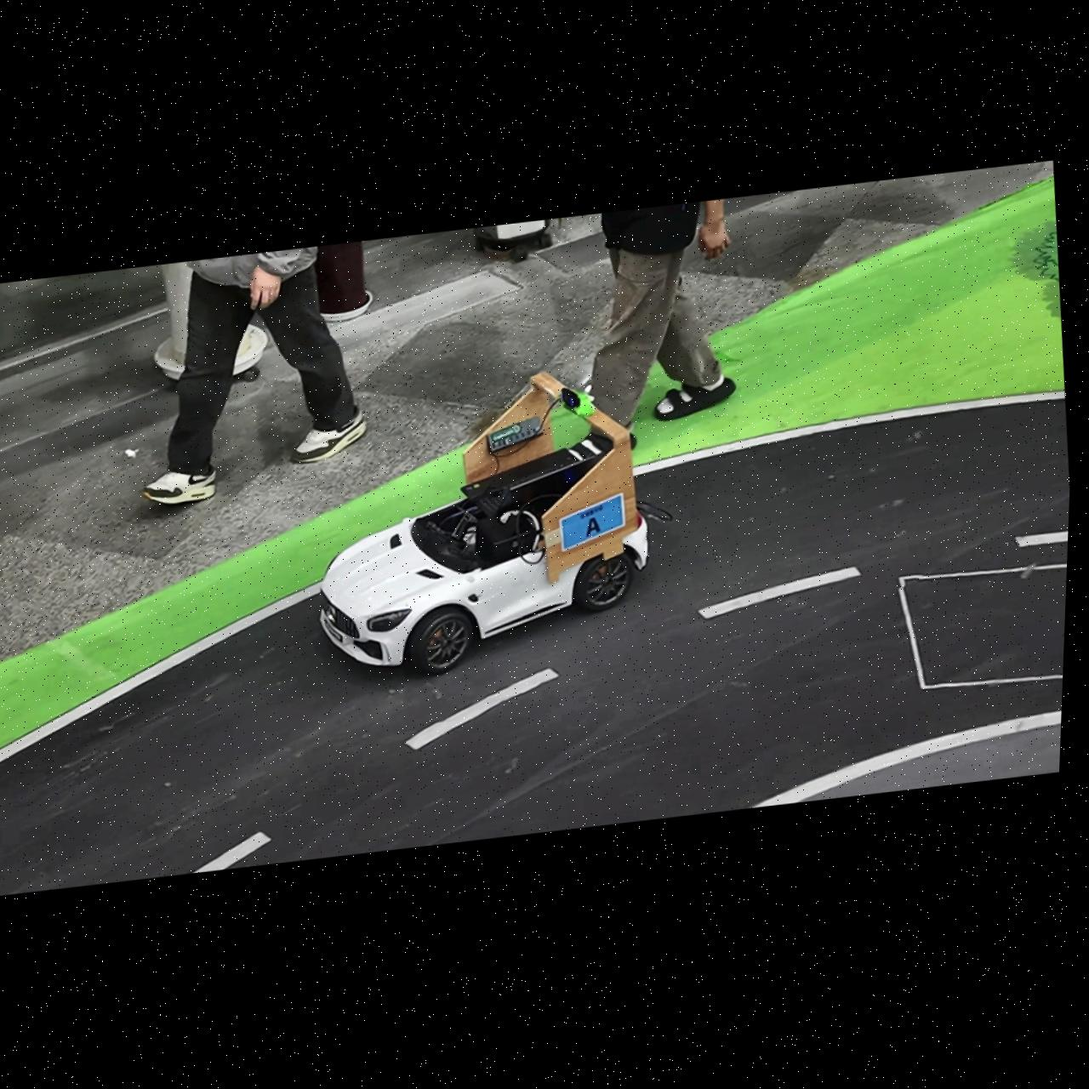broken_line: (406, 669, 558, 749), (699, 566, 861, 619), (193, 832, 271, 873), (1016, 531, 1068, 547)
